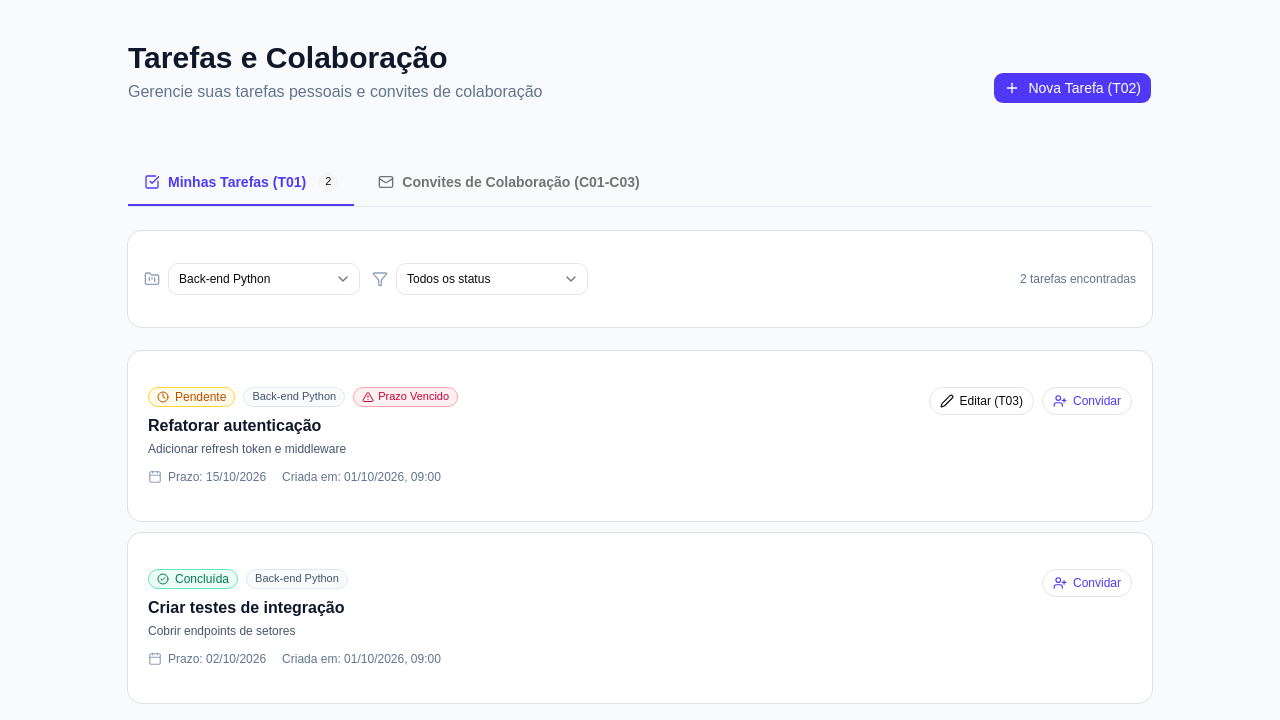
Test: MyTasks Page › permite abrir modal de criação de tarefa avulsa (T02)
Expected: the heading "Refatorar autenticação" is shown, x1=148 y1=417 x2=321 y2=434
Step 1. Click the button "Nova Tarefa (T02)" → coordinates (1073, 88), box x1=993 y1=72 x2=1152 y2=104
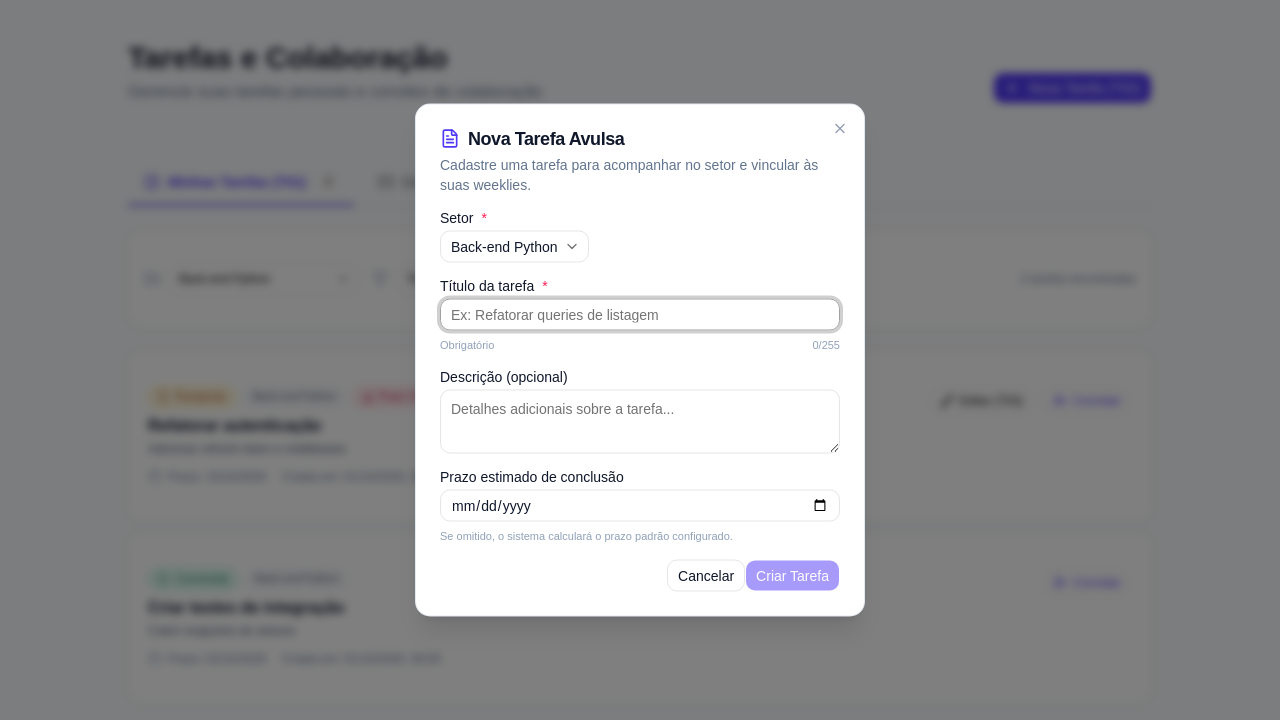
Now the heading "Nova Tarefa Avulsa" is shown, box x1=440 y1=128 x2=624 y2=148
